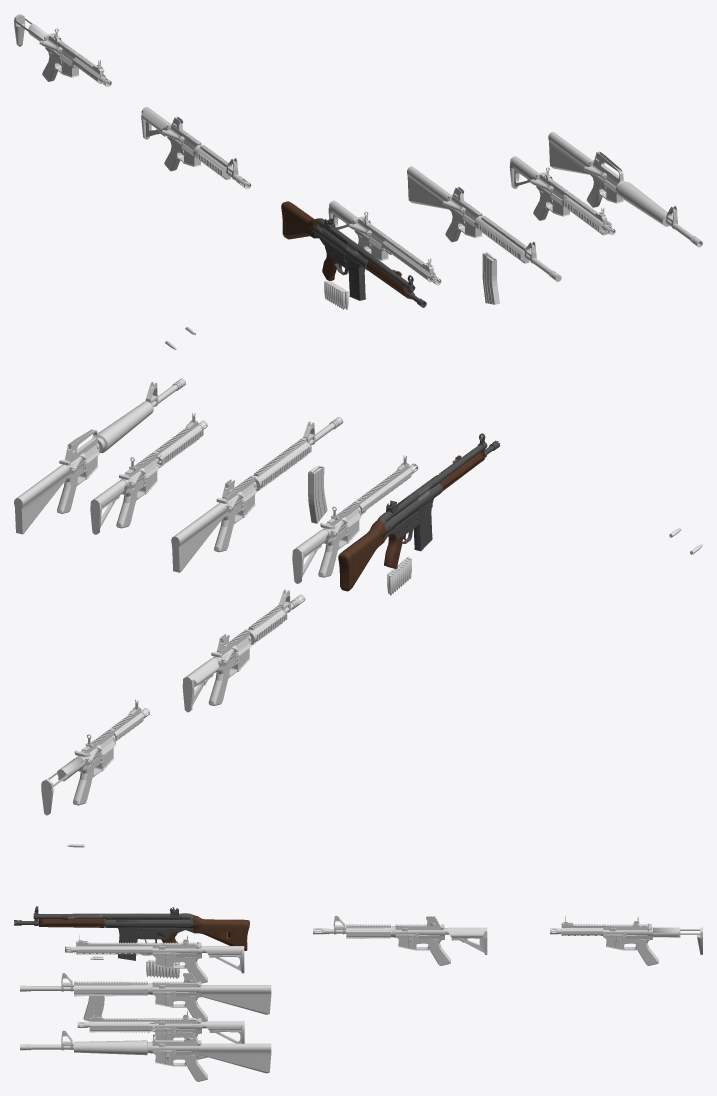
Rendered from AR_Rifles.fbx.
3 views of the same model, one above another, from view 1: azimuth 30°, elevation 25°; view 2: azimuth 150°, elevation 25°; view 3: azimuth 270°, elevation 25° (orthographic). The views are drawn at different scales.
Parts seen in each view (by area): view 1: C3A3, m16a2, m16a4, mk18, m4a4, HoneyRaccon Gen3, AM15 Gen3, mag_Stanag_empty, Stock_m4a4, Stock_mk18.002; view 2: C3A3, m16a2, m16a4, m4a4, mk18, AM15 Gen3, HoneyRaccon Gen3, Stock_m4a4, Stock_mk18.001, Stock_mk18.002, mag_Stanag_empty; view 3: m16a2, C3A3, m16a4, AM15 Gen3, m4a4, HoneyRaccon Gen3, mk18, Stock_m4a4, Stock_mk18.001, Stock_mk18.002, mag_Stanag_empty.
Part boxes in pixels (x1,y1,x2,y2): C3A3: (281,201,426,307); m16a2: (548,132,702,247); m16a4: (407,166,561,281); mk18: (530,173,615,235); m4a4: (161,124,251,189); HoneyRaccon Gen3: (28,24,111,87); AM15 Gen3: (349,218,441,285); mag_Stanag_empty: (482,252,499,304); Stock_m4a4: (141,107,169,139); Stock_mk18.002: (509,156,538,188); C3A3: (338,433,499,591); m16a2: (14,378,185,534); m16a4: (171,417,343,572); m4a4: (208,589,305,705); mk18: (116,420,207,528); AM15 Gen3: (318,462,418,577); HoneyRaccon Gen3: (57,707,150,805); Stock_m4a4: (182,658,219,712); Stock_mk18.001: (292,530,326,583); Stock_mk18.002: (90,481,124,534); mag_Stanag_empty: (308,465,327,523); m16a2: (20,1030,271,1081); C3A3: (14,906,249,950); m16a4: (20,973,271,1021); AM15 Gen3: (65,939,207,983); m4a4: (313,915,450,965); HoneyRaccon Gen3: (550,921,680,965); mk18: (77,1014,207,1059); Stock_m4a4: (448,927,487,954); Stock_mk18.001: (205,946,244,973); Stock_mk18.002: (205,1021,244,1043); mag_Stanag_empty: (83,981,104,1021).
Size of what is drawn, in the model's own units: 1.31 by 0.2096 by 1.82.
